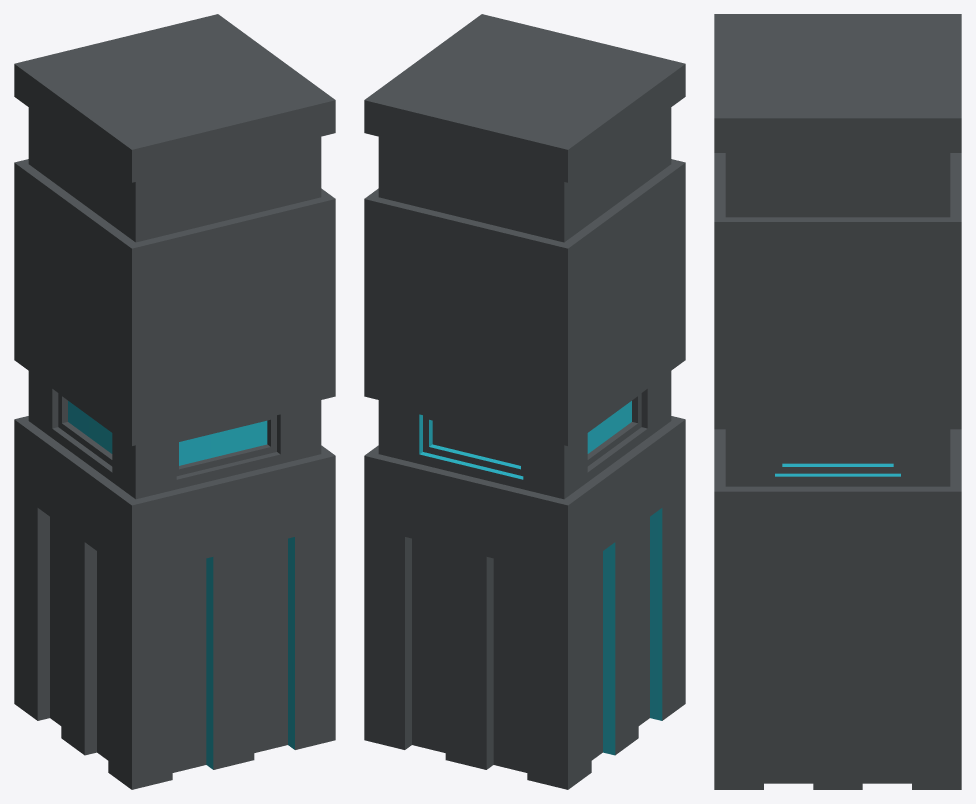
File: EspacioContenidoColumnaInteriorBajoNI.gltf
The picture shows the model from 3 angles, left to right: view 1: azimuth 30°, elevation 25°; view 2: azimuth 150°, elevation 25°; view 3: azimuth 270°, elevation 25°; orthographic projection. The views are drawn at different scales.
Visible parts, largest first — view 1: Objeto Poligonal.5; view 2: Objeto Poligonal.5; view 3: Objeto Poligonal.5.
Boxes of the visible parts, <box> form: Objeto Poligonal.5: <box>14,14,335,789</box>; Objeto Poligonal.5: <box>364,14,685,789</box>; Objeto Poligonal.5: <box>714,14,961,789</box>.
Bounding box in the file's own units: 0.6667 × 2 × 0.6667.
1 material, 1 textured.
